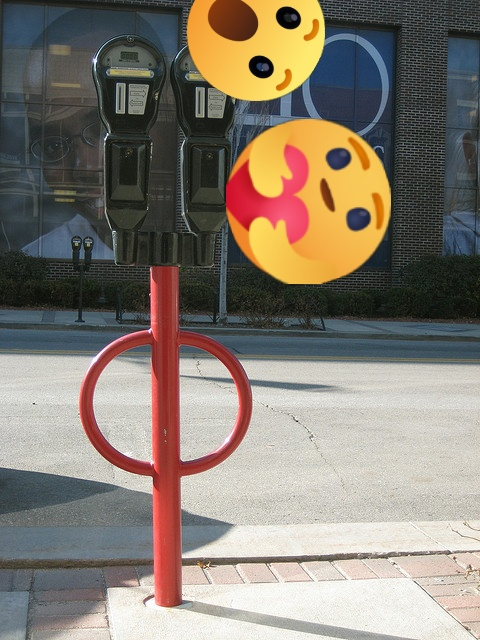care: (226, 119, 391, 284)
wow: (187, 0, 325, 101)
